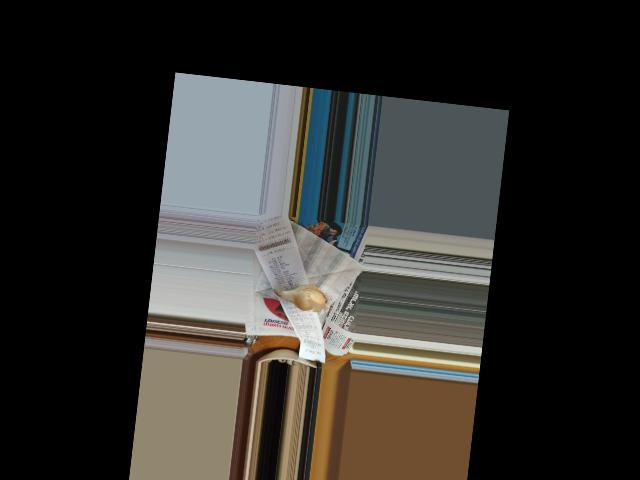onion: (286, 280, 326, 313)
